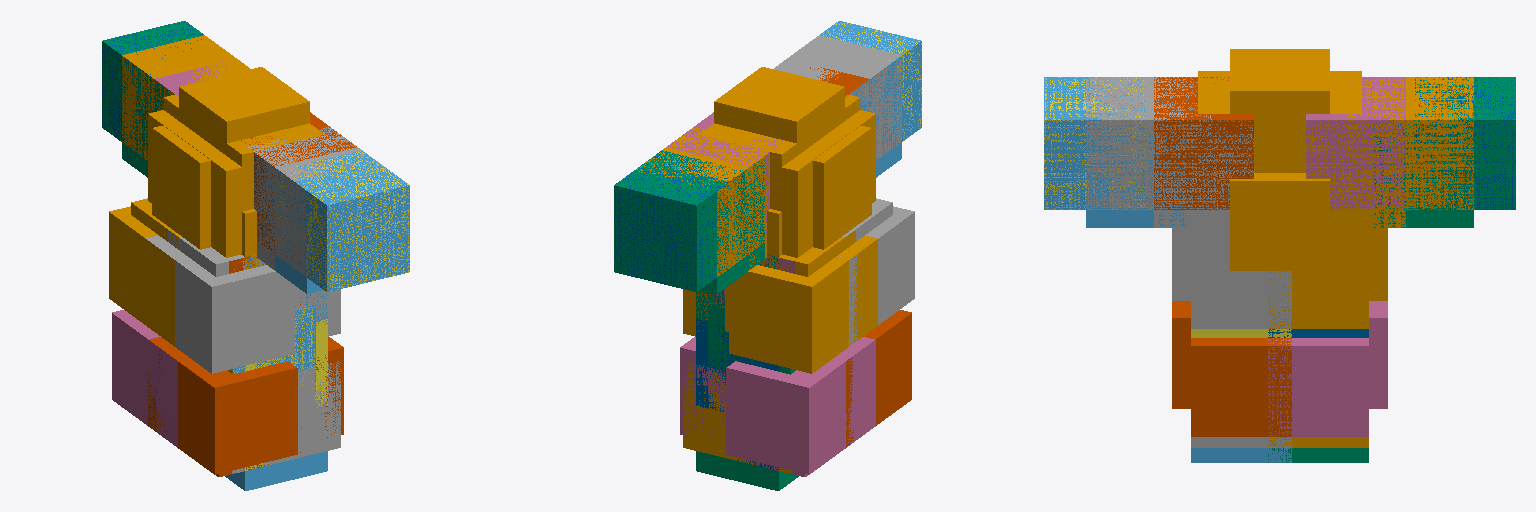
--- What the picture shows (computed from the rendered views, not written in the file) ---
The picture shows the robot from 3 angles, left to right: view 1: azimuth 30°, elevation 25°; view 2: azimuth 150°, elevation 25°; view 3: azimuth 270°, elevation 25°; orthographic projection.
Model typea with 25 links and 24 joints (18 revolute, 6 fixed), rooted at base_link, posed all joints at 0.
Links seen in each view (by area): view 1: torso_link, r_hip_lateral_link, r_ankle_swing_link, r_lower_arm_link, l_hip_lateral_link, r_upper_arm_link, l_ankle_swing_link, l_upper_arm_link, l_lower_arm_link, r_ankle_lateral_link, r_hand_link, r_foot_link (+5 smaller); view 2: torso_link, l_ankle_swing_link, l_hip_lateral_link, l_lower_arm_link, r_upper_arm_link, r_hip_lateral_link, l_upper_arm_link, r_lower_arm_link, r_ankle_swing_link, l_hand_link, l_ankle_lateral_link, l_foot_link (+5 smaller); view 3: torso_link, r_ankle_swing_link, r_upper_arm_link, l_upper_arm_link, l_ankle_swing_link, r_hip_lateral_link, l_lower_arm_link, r_lower_arm_link, l_hip_lateral_link, r_shoulder_swing_link, l_shoulder_swing_link, l_hand_link (+7 smaller).
Link boxes in pixels (x1,y1,x2,y2): torso_link: (148, 67, 324, 268); r_hip_lateral_link: (146, 230, 340, 373); r_ankle_swing_link: (148, 337, 343, 476); r_lower_arm_link: (259, 150, 409, 293); l_hip_lateral_link: (109, 198, 181, 346); r_upper_arm_link: (248, 127, 384, 276); l_ankle_swing_link: (112, 310, 177, 447); l_upper_arm_link: (122, 35, 249, 159); l_lower_arm_link: (102, 21, 203, 177); r_ankle_lateral_link: (232, 361, 340, 473); r_hand_link: (279, 151, 409, 291); r_foot_link: (225, 451, 327, 490); torso_link: (699, 67, 875, 269); l_ankle_swing_link: (680, 337, 875, 476); l_hip_lateral_link: (683, 230, 877, 373); l_lower_arm_link: (614, 150, 764, 293); r_upper_arm_link: (774, 35, 901, 160); r_hip_lateral_link: (839, 198, 914, 346); l_upper_arm_link: (637, 127, 775, 276); r_lower_arm_link: (820, 21, 921, 177); r_ankle_swing_link: (846, 310, 911, 447); l_hand_link: (614, 151, 744, 289); l_ankle_lateral_link: (683, 361, 791, 473); l_foot_link: (696, 451, 798, 490); torso_link: (1198, 49, 1361, 270); r_ankle_swing_link: (1172, 301, 1291, 436); r_upper_arm_link: (1086, 77, 1253, 227); l_upper_arm_link: (1306, 77, 1473, 227); l_ankle_swing_link: (1268, 301, 1387, 436); r_hip_lateral_link: (1172, 225, 1291, 328); l_lower_arm_link: (1374, 77, 1515, 227); r_lower_arm_link: (1044, 77, 1185, 227); l_hip_lateral_link: (1268, 225, 1387, 328); r_shoulder_swing_link: (1154, 77, 1253, 209); l_shoulder_swing_link: (1306, 77, 1405, 209); l_hand_link: (1415, 77, 1515, 209).
Bounding box of the posed robot: 0.1703 × 0.47 × 0.41 m (x, y, z).
Geometry: primitives only (box / cylinder / sphere), no mesh files.

The robot description file, URDF, robot "typea":
<?xml version="1.0" ?>
<!-- =================================================================================== -->
<!-- |    This document was autogenerated by xacro from typea.xacro                    | -->
<!-- |    EDITING THIS FILE BY HAND IS NOT RECOMMENDED                                 | -->
<!-- =================================================================================== -->
<robot name="typea">
  <!--gazebo>
    <plugin filename="libgazebo_ros_control.so" name="gazebo_ros_control">
      <robotNamespace>/typea</robotNamespace>
      <robotSimType>gazebo_ros_control/DefaultRobotHWSim</robotSimType>
    </plugin>
    <plugin filename="libgazebo_ros_imu.so" name="imu_plugin">
      <alwaysOn>true</alwaysOn>
      <bodyName>imu_link</bodyName>
      <topicName>/typea/imu</topicName>
      <serviceName>imu_service</serviceName>
      <gaussianNoise>0.0</gaussianNoise>
      <updateRate>20.0</updateRate>
      <visualize>true</visualize>
    </plugin>
  </gazebo-->
  <gazebo>
    <plugin filename="gz-sim-joint-state-publisher-system" 
          name="gz::sim::systems::JointStatePublisher">
       <topic>joint_states</topic> 
    </plugin>
  </gazebo>
  
  <gazebo reference="base_link">
    <self_collide>false</self_collide>
  </gazebo>
  <transmission name="r_shoulder_swing_joint_tran">
    <type>transmission_interface/SimpleTransmission</type>
    <joint name="r_shoulder_swing_joint">
      <hardwareInterface>hardwareInterface/Position</hardwareInterface>
    </joint>
    <actuator name="r_shoulder_swing_joint_motor">
      <hardwareInterface>hardwareInterface/Position</hardwareInterface>
      <mechanicalReduction>1</mechanicalReduction>
    </actuator>
  </transmission>
  <transmission name="l_shoulder_swing_joint_tran">
    <type>transmission_interface/SimpleTransmission</type>
    <joint name="l_shoulder_swing_joint">
      <hardwareInterface>hardwareInterface/Position</hardwareInterface>
    </joint>
    <actuator name="l_shoulder_swing_joint_motor">
      <hardwareInterface>hardwareInterface/Position</hardwareInterface>
      <mechanicalReduction>1</mechanicalReduction>
    </actuator>
  </transmission>
  <transmission name="r_shoulder_lateral_joint_tran">
    <type>transmission_interface/SimpleTransmission</type>
    <joint name="r_shoulder_lateral_joint">
      <hardwareInterface>hardwareInterface/Position</hardwareInterface>
    </joint>
    <actuator name="r_shoulder_lateral_joint_motor">
      <hardwareInterface>hardwareInterface/Position</hardwareInterface>
      <mechanicalReduction>1</mechanicalReduction>
    </actuator>
  </transmission>
  <transmission name="l_shoulder_lateral_joint_tran">
    <type>transmission_interface/SimpleTransmission</type>
    <joint name="l_shoulder_lateral_joint">
      <hardwareInterface>hardwareInterface/Position</hardwareInterface>
    </joint>
    <actuator name="l_shoulder_lateral_joint_motor">
      <hardwareInterface>hardwareInterface/Position</hardwareInterface>
      <mechanicalReduction>1</mechanicalReduction>
    </actuator>
  </transmission>
  <transmission name="r_elbow_joint_tran">
    <type>transmission_interface/SimpleTransmission</type>
    <joint name="r_elbow_joint">
      <hardwareInterface>hardwareInterface/Position</hardwareInterface>
    </joint>
    <actuator name="r_elbow_joint_motor">
      <hardwareInterface>Position</hardwareInterface>
      <mechanicalReduction>1</mechanicalReduction>
    </actuator>
  </transmission>
  <transmission name="l_elbow_joint_tran">
    <type>transmission_interface/SimpleTransmission</type>
    <joint name="l_elbow_joint">
      <hardwareInterface>hardwareInterface/Position</hardwareInterface>
    </joint>
    <actuator name="l_elbow_joint_motor">
      <hardwareInterface>Position</hardwareInterface>
      <mechanicalReduction>1</mechanicalReduction>
    </actuator>
  </transmission>
  <transmission name="r_hip_twist_joint_tran">
    <type>transmission_interface/SimpleTransmission</type>
    <joint name="r_hip_twist_joint">
      <hardwareInterface>hardwareInterface/Position</hardwareInterface>
    </joint>
    <actuator name="r_hip_twist_joint_motor">
      <hardwareInterface>hardwareInterface/Position</hardwareInterface>
      <mechanicalReduction>1</mechanicalReduction>
    </actuator>
  </transmission>
  <transmission name="l_hip_twist_joint_tran">
    <type>transmission_interface/SimpleTransmission</type>
    <joint name="l_hip_twist_joint">
      <hardwareInterface>hardwareInterface/Position</hardwareInterface>
    </joint>
    <actuator name="l_hip_twist_joint_motor">
      <hardwareInterface>hardwareInterface/Position</hardwareInterface>
      <mechanicalReduction>1</mechanicalReduction>
    </actuator>
  </transmission>
  <transmission name="r_hip_lateral_joint_tran">
    <type>transmission_interface/SimpleTransmission</type>
    <joint name="r_hip_lateral_joint">
      <hardwareInterface>hardwareInterface/Position</hardwareInterface>
    </joint>
    <actuator name="r_hip_lateral_joint_motor">
      <hardwareInterface>hardwareInterface/Position</hardwareInterface>
      <mechanicalReduction>1</mechanicalReduction>
    </actuator>
  </transmission>
  <transmission name="l_hip_lateral_joint_tran">
    <type>transmission_interface/SimpleTransmission</type>
    <joint name="l_hip_lateral_joint">
      <hardwareInterface>hardwareInterface/Position</hardwareInterface>
    </joint>
    <actuator name="l_hip_lateral_joint_motor">
      <hardwareInterface>hardwareInterface/Position</hardwareInterface>
      <mechanicalReduction>1</mechanicalReduction>
    </actuator>
  </transmission>
  <transmission name="r_hip_swing_joint_tran">
    <type>transmission_interface/SimpleTransmission</type>
    <joint name="r_hip_swing_joint">
      <hardwareInterface>hardwareInterface/Position</hardwareInterface>
    </joint>
    <actuator name="r_hip_swing_joint_motor">
      <hardwareInterface>hardwareInterface/Position</hardwareInterface>
      <mechanicalReduction>1</mechanicalReduction>
    </actuator>
  </transmission>
  <transmission name="l_hip_swing_joint_tran">
    <type>transmission_interface/SimpleTransmission</type>
    <joint name="l_hip_swing_joint">
      <hardwareInterface>hardwareInterface/Position</hardwareInterface>
    </joint>
    <actuator name="l_hip_swing_joint_motor">
      <hardwareInterface>hardwareInterface/Position</hardwareInterface>
      <mechanicalReduction>1</mechanicalReduction>
    </actuator>
  </transmission>
  <transmission name="r_knee_joint_tran">
    <type>transmission_interface/SimpleTransmission</type>
    <joint name="r_knee_joint">
      <hardwareInterface>hardwareInterface/Position</hardwareInterface>
    </joint>
    <actuator name="r_knee_joint_motor">
      <hardwareInterface>hardwareInterface/Position</hardwareInterface>
      <mechanicalReduction>1</mechanicalReduction>
    </actuator>
  </transmission>
  <transmission name="l_knee_joint_tran">
    <type>transmission_interface/SimpleTransmission</type>
    <joint name="l_knee_joint">
      <hardwareInterface>hardwareInterface/Position</hardwareInterface>
    </joint>
    <actuator name="l_knee_joint_motor">
      <hardwareInterface>hardwareInterface/Position</hardwareInterface>
      <mechanicalReduction>1</mechanicalReduction>
    </actuator>
  </transmission>
  <transmission name="r_ankle_swing_joint_tran">
    <type>transmission_interface/SimpleTransmission</type>
    <joint name="r_ankle_swing_joint">
      <hardwareInterface>hardwareInterface/Position</hardwareInterface>
    </joint>
    <actuator name="r_ankle_swing_joint_motor">
      <hardwareInterface>hardwareInterface/Position</hardwareInterface>
      <mechanicalReduction>1</mechanicalReduction>
    </actuator>
  </transmission>
  <transmission name="l_ankle_swing_joint_tran">
    <type>transmission_interface/SimpleTransmission</type>
    <joint name="l_ankle_swing_joint">
      <hardwareInterface>hardwareInterface/Position</hardwareInterface>
    </joint>
    <actuator name="l_ankle_swing_joint_motor">
      <hardwareInterface>hardwareInterface/Position</hardwareInterface>
      <mechanicalReduction>1</mechanicalReduction>
    </actuator>
  </transmission>
  <transmission name="r_ankle_lateral_joint_tran">
    <type>transmission_interface/SimpleTransmission</type>
    <joint name="r_ankle_lateral_joint">
      <hardwareInterface>hardwareInterface/Position</hardwareInterface>
    </joint>
    <actuator name="r_ankle_lateral_joint_motor">
      <hardwareInterface>hardwareInterface/Position</hardwareInterface>
      <mechanicalReduction>1</mechanicalReduction>
    </actuator>
  </transmission>
  <transmission name="l_ankle_lateral_joint_tran">
    <type>transmission_interface/SimpleTransmission</type>
    <joint name="l_ankle_lateral_joint">
      <hardwareInterface>hardwareInterface/Position</hardwareInterface>
    </joint>
    <actuator name="l_ankle_lateral_joint_motor">
      <hardwareInterface>hardwareInterface/Position</hardwareInterface>
      <mechanicalReduction>1</mechanicalReduction>
    </actuator>
  </transmission>
  <!-- Torso -->
  <link name="torso_link">
    <visual>
      <geometry>
        <!-- <mesh filename="file://[local-path]/ros2_ws/src/bioloid_description/assets/cad/BPF-CHEST-F_FCD-Conv_BDR-Col.dae" scale="0.001 0.001 0.001"/> -->
        <box size="0.1 0.1 0.1" />
      </geometry>
      <origin rpy="1.5707963267948966 0 1.5707963267948966"/>
    </visual>
    <visual>
      <geometry>
        <!-- <mesh filename="file://[local-path]/ros2_ws/src/bioloid_description/assets/cad/BPF-CHEST-B_FCD-Conv_BDR-Col.dae" scale="0.001 0.001 0.001"/> -->
        <box size="0.1 0.1 0.1" />
      </geometry>
      <origin rpy="1.5707963267948966 0 1.5707963267948966"/>
    </visual>
    <visual>
      <geometry>
        <!-- <mesh filename="file://[local-path]/ros2_ws/src/bioloid_description/assets/cad/CM-5_FCD-Conv_BDR-Col.dae" scale="0.001 0.001 0.001"/> -->
        <box size="0.1 0.1 0.1" />
      </geometry>
      <origin rpy="0 3.141592653589793 1.5707963267948966" xyz="-0.032 0 -0.015"/>
    </visual>
    <!-- Sensor 100 -->
    <visual>
      <geometry>
        <!-- <mesh filename="file://[local-path]/ros2_ws/src/bioloid_description/assets/cad/AX-S1_FCD-Conv_BDR-Col.dae" scale="0.001 0.001 0.001"/> -->
        <box size="0.1 0.1 0.1" />
      </geometry>
      <origin rpy="-1.5707963267948966 0 -1.5707963267948966" xyz="0 0 0.025"/>
    </visual>
    <!-- Motor 1 -->
    <visual>
      <geometry>
        <!-- <mesh filename="file://[local-path]/ros2_ws/src/bioloid_description/assets/cad/AX-12_FCD-Conv_BDR-Col.dae" scale="0.001 0.001 0.001"/> -->
        <box size="0.1 0.1 0.1" />
      </geometry>
      <origin rpy="1.5707963267948966 0 0" xyz="0 -0.032 0"/>
    </visual>
    <visual>
      <geometry>
        <!-- <mesh filename="file://[local-path]/ros2_ws/src/bioloid_description/assets/cad/FP04-F3_FCD-Conv_BDR-Col.dae" scale="0.001 0.001 0.001"/> -->
        <box size="0.1 0.1 0.1" />
      </geometry>
      <origin rpy="3.141592653589793 -1.5707963267948966 1.5707963267948966" xyz="-0.019 -0.032 -0.0145"/>
    </visual>
    <!-- Motor 2 -->
    <visual>
      <geometry>
        <!-- <mesh filename="file://[local-path]/ros2_ws/src/bioloid_description/assets/cad/AX-12_FCD-Conv_BDR-Col.dae" scale="0.001 0.001 0.001"/> -->
        <box size="0.1 0.1 0.1" />
      </geometry>
      <origin rpy="1.5707963267948966 0 3.141592653589793" xyz="0 0.032 0"/>
    </visual>
    <visual>
      <geometry>
        <!-- <mesh filename="file://[local-path]/ros2_ws/src/bioloid_description/assets/cad/FP04-F3_FCD-Conv_BDR-Col.dae" scale="0.001 0.001 0.001"/> -->
        <box size="0.1 0.1 0.1" />
      </geometry>
      <origin rpy="3.141592653589793 -1.5707963267948966 1.5707963267948966" xyz="-0.019 0.032 -0.0145"/>
    </visual>
    <visual>
      <geometry>
        <!-- <mesh filename="file://[local-path]/ros2_ws/src/bioloid_description/assets/cad/FP04-F3_FCD-Conv_BDR-Col.dae" scale="0.001 0.001 0.001"/> -->
        <box size="0.1 0.1 0.1" />
      </geometry>
      <origin rpy="0 0 1.5707963267948966" xyz="0.0175 0 -0.0655"/>
    </visual>
    <visual>
      <geometry>
        <!-- <mesh filename="file://[local-path]/ros2_ws/src/bioloid_description/assets/cad/FP04-F3_FCD-Conv_BDR-Col.dae" scale="0.001 0.001 0.001"/> -->
        <box size="0.1 0.1 0.1" />
      </geometry>
      <origin rpy="0 0 -1.5707963267948966" xyz="-0.0175 0 -0.0655"/>
    </visual>
    <!-- Motor 7 -->
    <visual>
      <geometry>
        <!-- <mesh filename="file://[local-path]/ros2_ws/src/bioloid_description/assets/cad/AX-12_FCD-Conv_BDR-Col.dae" scale="0.001 0.001 0.001"/> -->
        <box size="0.1 0.1 0.1" />
      </geometry>
      <origin rpy="0 3.141592653589793 3.141592653589793" xyz="0 -0.0385 -0.0655"/>
    </visual>
    <!-- Motor 8 -->
    <visual>
      <geometry>
        <!-- <mesh filename="file://[local-path]/ros2_ws/src/bioloid_description/assets/cad/AX-12_FCD-Conv_BDR-Col.dae" scale="0.001 0.001 0.001"/> -->
        <box size="0.1 0.1 0.1" />
      </geometry>
      <origin rpy="0 3.141592653589793 0" xyz="0 0.0385 -0.0655"/>
    </visual>
    <collision name="head_collision">
      <origin xyz="-0.0122 0 0.035"/>
      <geometry>
        <box size="0.054 0.033 0.044"/>
      </geometry>
    </collision>
    <collision name="torso_collision_top">
      <origin xyz="-0.019 0 -0.015"/>
      <geometry>
        <box size="0.0905 0.103 0.0635"/>
      </geometry>
    </collision>
    <collision name="torso_collision_bottom">
      <origin xyz="-0.00625 0 -0.0648"/>
      <geometry>
        <box size="0.065 0.099 0.043"/>
      </geometry>
    </collision>
    <inertial>
      <mass value="3.4770266466"/>
      <origin xyz="0.0162019036 0.0049844800 0.0038595353"/>
      <inertia ixx="0.9787053684" ixy="0.0543464614" ixz="-0.0262073548" iyy="0.9730952674" iyz="0.0198675713" izz="0.9352573858"/>
    </inertial>
    <!--
        <inertial>
            <origin xyz="-0.003053 -0.038651 -0.019268" />
            <mass value="0.97559947"/>
            <inertia ixx="3.1081800"  ixy="-0.25460189"  ixz="2.0318174" iyy="6.3787776" iyz="0.16417863" izz="5.3316425" />
        </inertial>
        -->
  </link>
  <!-- Right foot -->
  <link name="r_foot_link">
    <visual>
      <geometry>
        <!-- <mesh filename="file://[local-path]/ros2_ws/src/bioloid_description/assets/cad/FP04-F12_FCD-Conv_BDR-Col.dae" scale="0.001 0.001 0.001"/> -->
        <box size="0.1 0.1 0.1" />
      </geometry>
      <origin rpy="0 1.5707963267948966 -1.5707963267948966" xyz="0.0235 0 0"/>
    </visual>
    <collision name="r_foot_collision">
      <origin xyz="0.0277 0 0"/>
      <geometry>
        <box size="0.009 0.061 0.101"/>
      </geometry>
    </collision>
    <inertial>
      <mass value="0.1867801099"/>
      <origin xyz="-0.0055676472 0.0034398816 0.0028465215"/>
      <inertia ixx="0.0123442309" ixy="-0.0013373380" ixz="-0.0014042040" iyy="0.0351609327" iyz="0.0011525105" izz="0.0411013075"/>
    </inertial>
    <!--
        <inertial>
            <origin xyz="-0.025995 -0.009506 -0.000503" />
            <mass value="0.0794462"/>
            <inertia ixx="0.12079175"  ixy="-0.00079781067"  ixz="-0.00039322246" iyx="-0.00079781067" iyy="0.10885465" iyz="0.0070770117" izx="-0.00039322246" izy="0.0070770117" izz="0.041871103" />
        </inertial>
        -->
  </link>
  <!-- Left foot -->
  <link name="l_foot_link">
    <visual>
      <geometry>
        <!-- <mesh filename="file://[local-path]/ros2_ws/src/bioloid_description/assets/cad/FP04-F12_FCD-Conv_BDR-Col.dae" scale="0.001 0.001 0.001"/> -->
        <box size="0.1 0.1 0.1" />
      </geometry>
      <origin rpy="3.141592653589793 1.5707963267948966 -1.5707963267948966" xyz="-0.0235 0 0"/>
    </visual>
    <collision name="l_foot_collision">
      <origin xyz="-0.0277 0 0"/>
      <geometry>
        <box size="0.009 0.061 0.101"/>
      </geometry>
    </collision>
    <inertial>
      <mass value="0.1867801099"/>
      <origin xyz="-0.0055676472 -0.0035014440 0.0028465215"/>
      <inertia ixx="0.0123437897" ixy="0.0013329200" ixz="-0.0014042040" iyy="0.0351609292" iyz="-0.0011492661" izz="0.0411008628"/>
    </inertial>
    <!--
        <inertial>
            <origin xyz="-0.025995 -0.009506 -0.000503" />
            <mass value="0.0794462"/>
            <inertia ixx="0.12079175"  ixy="-0.00079781067"  ixz="-0.00039322246" iyx="-0.00079781067" iyy="0.10885465" iyz="0.0070770117" izx="-0.00039322246" izy="0.0070770117" izz="0.041871103" />
        </inertial>
        -->
  </link>
  <!-- IMU -->
  <joint name="imu_to_base_joint" type="fixed">
    <axis xyz="1 0 0"/>
    <origin rpy="0 0 0" xyz="0 0 0.05"/>
    <parent link="base_link"/>
    <child link="imu_link"/>
  </joint>
  <link name="imu_link">
    <visual>
      <origin rpy="0 0 0" xyz="0 0 0"/>
      <geometry>
        <box size="0.04 0.02 0.005"/>
      </geometry>
      <material name="green">
        <color rgba="0.0 1.0 0.0 1.0"/>
      </material>
    </visual>
    <collision>
      <origin rpy="0 0 0" xyz="0 0 0"/>
      <geometry>
        <box size=".01 .01 .01"/>
      </geometry>
    </collision>
    <inertial>
      <mass value="0.001"/>
      <origin rpy="0 0 0" xyz="0 0 0"/>
      <inertia ixx="0.0001" ixy="0" ixz="0" iyy="0.000001" iyz="0" izz="0.0001"/>
    </inertial>
  </link>
  <!-- Base -->
  <joint name="base_to_torso_joint" type="fixed">
    <parent link="base_link"/>
    <origin rpy="0 0 0" xyz="0 0 0"/>
    <child link="torso_link"/>
  </joint>
  <link name="base_link">
    <collision>
      <geometry>
        <box size="0.5 0.5 0.2"/>
      </geometry>
    </collision>
    <inertial>
      <mass value="5.0"/>
      <inertia ixx="0.1" iyy="0.1" izz="0.1" ixy="0.0" ixz="0.0" iyz="0.0"/>
    </inertial>
    </link>
  <joint name="r_shoulder_swing_joint" type="revolute">
    <parent link="torso_link"/>
    <origin rpy="1.5707963267948966 1.5707963267948966 0" xyz="0 -0.032 0"/>
    <axis xyz="0 0 1"/>
    <child link="r_shoulder_swing_link"/>
    <limit effort="2.8" lower="-1" upper="1.5707963267948966" velocity="1.0"/>
    <dynamics damping="1.0" friction="0.1"/>
  </joint>
  <link name="r_shoulder_swing_link">
    <visual>
      <geometry>
        <!-- <mesh filename="file://[local-path]/ros2_ws/src/bioloid_description/assets/cad/FP04-F1_FCD-Conv_BDR-Col.dae" scale="0.001 0.001 0.001"/> -->
        <box size="0.1 0.1 0.1" />
      </geometry>
      <origin rpy="0 3.141592653589793 3.141592653589793" xyz="0 0.014 0.044"/>
    </visual>
    <collision name="r_shoulder_collision">
      <origin xyz="0 0.006 0.0375"/>
      <geometry>
        <box size="0.052 0.039 0.036"/>
      </geometry>
    </collision>
    <inertial>
      <mass value="0.0595945816"/>
      <origin xyz="-0.0109359544 0.0123630374 -0.0000000007"/>
      <inertia ixx="0.0069903407" ixy="-0.0020812370" ixz="0.0000000001" iyy="0.0067210939" iyz="-0.0000000002" izz="0.0054521983"/>
    </inertial>
    <!--
        <inertial>
            <origin xyz="-0.013522619 0.010264050 0.0013935747"/>
            <mass value="0.025913024"/>
            <inertia  ixx="0.0097758165" ixy="0.0016911839"  ixz="-0.0016911839"  iyy="0.010511104"  iyz="0.00033406955"  izz="0.005476798"/>
        </inertial>
        -->
  </link>
  <joint name="l_shoulder_swing_joint" type="revolute">
    <parent link="torso_link"/>
    <origin rpy="-1.5707963267948966 -1.5707963267948966 0" xyz="0 0.032 0"/>
    <axis xyz="0 0 1"/>
    <child link="l_shoulder_swing_link"/>
    <limit effort="2.8" lower="-1" upper="1.5707963267948966" velocity="1.0"/>
  </joint>
  <link name="l_shoulder_swing_link">
    <visual>
      <geometry>
        <!-- <mesh filename="file://[local-path]/ros2_ws/src/bioloid_description/assets/cad/FP04-F1_FCD-Conv_BDR-Col.dae" scale="0.001 0.001 0.001"/> -->
        <box size="0.1 0.1 0.1" />
      </geometry>
      <origin rpy="0 3.141592653589793 3.141592653589793" xyz="0 0.014 0.044"/>
    </visual>
    <collision name="l_shoulder_collision">
      <origin xyz="0 0.006 0.0375"/>
      <geometry>
        <box size="0.052 0.039 0.036"/>
      </geometry>
    </collision>
    <inertial>
      <mass value="0.0595945816"/>
      <origin xyz="-0.0109359544 -0.0123630374 0.0000000007"/>
      <inertia ixx="0.0069903407" ixy="0.0020812370" ixz="-0.0000000001" iyy="0.0067210939" iyz="-0.0000000002" izz="0.0054521983"/>
    </inertial>
    <!--
        <inertial>
            <origin xyz="-0.013522619 0.010264050 0.0013935747"/>
            <mass value="0.025913024"/>
            <inertia  ixx="0.0097758165" ixy="0.0016911839"  ixz="-0.0016911839"  iyy="0.010511104"  iyz="0.00033406955"  izz="0.005476798"/>
        </inertial>
        -->
  </link>
  <joint name="r_shoulder_lateral_joint" type="revolute">
    <parent link="r_shoulder_swing_link"/>
    <origin rpy="0 -1.5707963267948966 0" xyz="0 0.014 0.044"/>
    <axis xyz="0 0 1"/>
    <child link="r_upper_arm_link"/>
    <limit effort="2.8" lower="-1.5" upper="1.5" velocity="1.0"/>
  </joint>
  <link name="r_upper_arm_link">
    <visual>
      <geometry>
        <!-- <mesh filename="file://[local-path]/ros2_ws/src/bioloid_description/assets/cad/AX-12_FCD-Conv_BDR-Col.dae" scale="0.001 0.001 0.001"/> -->
        <box size="0.1 0.1 0.1" />
      </geometry>
      <origin rpy="0 0 1.5707963267948966" xyz="0 0 0"/>
    </visual>
    <visual>
      <geometry>
        <!-- <mesh filename="file://[local-path]/ros2_ws/src/bioloid_description/assets/cad/BPF-BU_FCD-Conv_BDR-Col.dae" scale="0.001 0.001 0.001"/> -->
        <box size="0.1 0.1 0.1" />
      </geometry>
      <origin rpy="-1.5707963267948966 0 1.5707963267948966" xyz="0 0 -0.0185"/>
    </visual>
    <visual>
      <geometry>
        <!-- <mesh filename="file://[local-path]/ros2_ws/src/bioloid_description/assets/cad/BPF-WA_FCD-Conv_BDR-Col.dae" scale="0.001 0.001 0.001"/> -->
        <box size="0.1 0.1 0.1" />
      </geometry>
      <origin rpy="-1.5707963267948966 0 1.5707963267948966" xyz="0 0 -0.019"/>
    </visual>
    <visual>
      <geometry>
        <!-- <mesh filename="file://[local-path]/ros2_ws/src/bioloid_description/assets/cad/FP04-F3_FCD-Conv_BDR-Col.dae" scale="0.001 0.001 0.001"/> -->
        <box size="0.1 0.1 0.1" />
      </geometry>
      <origin rpy="0 0 1.5707963267948966" xyz="0.0415 0 0"/>
    </visual>
    <visual>
      <geometry>
        <!-- <mesh filename="file://[local-path]/ros2_ws/src/bioloid_description/assets/cad/FP04-F2_FCD-Conv_BDR-Col.dae" scale="0.001 0.001 0.001"/> -->
        <box size="0.1 0.1 0.1" />
      </geometry>
      <origin rpy="-1.5707963267948966 1.5707963267948966 1.5707963267948966" xyz="0.0675 0 0"/>
    </visual>
    <collision name="r_upper arm_collision_proximal">
      <origin xyz="0.0148 0 0"/>
      <geometry>
        <box size="0.054 0.033 0.044"/>
      </geometry>
    </collision>
    <collision name="r_upper arm_collision_distal">
      <origin xyz="0.0555 0 0"/>
      <geometry>
        <box size="0.047 0.033 0.052"/>
      </geometry>
    </collision>
    <inertial>
      <mass value="0.3822870734"/>
      <origin xyz="-0.0000002032 -0.0068291604 -0.0006710552"/>
      <inertia ixx="0.0274690892" ixy="0.0000004066" ixz="-0.0000000859" iyy="0.0077817002" iyz="0.0007139012" izz="0.0226034759"/>
    </inertial>
    <!--
        <inertial>
      	<origin xyz="-0.036239 0.000734 -0.000660" />
      	<mass value="0.16837715"/>
      	<inertia ixx="0.12202839"  ixy="-0.0020812626"  ixz="-0.00088143449" iyx="-0.0020812626" iyy="0.038088441" iyz="0.0018251448" izx="-0.00088143449" izy="0.0018251448" izz="0.11340830" />
        </inertial>
        -->
  </link>
  <joint name="l_shoulder_lateral_joint" type="revolute">
    <parent link="l_shoulder_swing_link"/>
    <origin rpy="0 -1.5707963267948966 0" xyz="0 0.014 0.044"/>
    <axis xyz="0 0 1"/>
    <child link="l_upper_arm_link"/>
    <limit effort="2.8" lower="-1.5" upper="1.5" velocity="1.0"/>
  </joint>
  <link name="l_upper_arm_link">
    <visual>
      <geometry>
        <!-- <mesh filename="file://[local-path]/ros2_ws/src/bioloid_description/assets/cad/AX-12_FCD-Conv_BDR-Col.dae" scale="0.001 0.001 0.001"/> -->
        <box size="0.1 0.1 0.1" />
      </geometry>
      <origin rpy="3.141592653589793 0 -1.5707963267948966" xyz="0 0 0"/>
    </visual>
    <visual>
      <geometry>
        <!-- <mesh filename="file://[local-path]/ros2_ws/src/bioloid_description/assets/cad/BPF-BU_FCD-Conv_BDR-Col.dae" scale="0.001 0.001 0.001"/> -->
        <box size="0.1 0.1 0.1" />
      </geometry>
      <origin rpy="1.5707963267948966 0 1.5707963267948966" xyz="0 0 0.0185"/>
    </visual>
    <visual>
      <geometry>
        <!-- <mesh filename="file://[local-path]/ros2_ws/src/bioloid_description/assets/cad/BPF-WA_FCD-Conv_BDR-Col.dae" scale="0.001 0.001 0.001"/> -->
        <box size="0.1 0.1 0.1" />
      </geometry>
      <origin rpy="1.5707963267948966 0 1.5707963267948966" xyz="0 0 0.019"/>
    </visual>
    <visual>
      <geometry>
        <!-- <mesh filename="file://[local-path]/ros2_ws/src/bioloid_description/assets/cad/FP04-F3_FCD-Conv_BDR-Col.dae" scale="0.001 0.001 0.001"/> -->
        <box size="0.1 0.1 0.1" />
      </geometry>
      <origin rpy="3.141592653589793 0 -1.5707963267948966" xyz="0.0415 0 0"/>
    </visual>
    <visual>
      <geometry>
        <!-- <mesh filename="file://[local-path]/ros2_ws/src/bioloid_description/assets/cad/FP04-F2_FCD-Conv_BDR-Col.dae" scale="0.001 0.001 0.001"/> -->
        <box size="0.1 0.1 0.1" />
      </geometry>
      <origin rpy="1.5707963267948966 1.5707963267948966 -1.5707963267948966" xyz="0.0675 0 0"/>
    </visual>
    <collision name="l_upper arm_collision_proximal">
      <origin xyz="0.0148 0 0"/>
      <geometry>
        <box size="0.054 0.033 0.044"/>
      </geometry>
    </collision>
    <collision name="l_upper arm_collision_distal">
      <origin xyz="0.0555 0 0"/>
      <geometry>
        <box size="0.047 0.033 0.052"/>
      </geometry>
    </collision>
    <inertial>
      <mass value="0.3822870734"/>
      <origin xyz="0.0000002032 0.0068291604 -0.0006710552"/>
      <inertia ixx="0.0274690892" ixy="0.0000004066" ixz="0.0000000859" iyy="0.0077817002" iyz="-0.0007139012" izz="0.0226034759"/>
    </inertial>
    <!--
        <inertial>
      	<origin xyz="-0.036239 0.000734 -0.000660" />
      	<mass value="0.16837715"/>
      	<inertia ixx="0.12202839"  ixy="-0.0020812626"  ixz="-0.00088143449" iyx="-0.0020812626" iyy="0.038088441" iyz="0.0018251448" izx="-0.00088143449" izy="0.0018251448" izz="0.11340830" />
        </inertial>
        -->
  </link>
  <joint name="r_elbow_joint" type="revolute">
    <parent link="r_upper_arm_link"/>
    <origin rpy="0 0 0" xyz="0.0675 0 0"/>
    <axis xyz="0 0 1"/>
    <child link="r_lower_arm_link"/>
    <limit effort="2.8" lower="-1.77" upper="1.77" velocity="1.0"/>
  </joint>
  <link name="r_lower_arm_link">
    <!-- Motor 5 -->
    <visual>
      <geometry>
        <!-- <mesh filename="file://[local-path]/ros2_ws/src/bioloid_description/assets/cad/AX-12_FCD-Conv_BDR-Col.dae" scale="0.001 0.001 0.001"/> -->
        <box size="0.1 0.1 0.1" />
      </geometry>
      <origin rpy="0 0 1.5707963267948966" xyz="0 0 0"/>
    </visual>
    <visual>
      <geometry>
        <!-- <mesh filename="file://[local-path]/ros2_ws/src/bioloid_description/assets/cad/BPF-BU_FCD-Conv_BDR-Col.dae" scale="0.001 0.001 0.001"/> -->
        <box size="0.1 0.1 0.1" />
      </geometry>
      <origin rpy="-1.5707963267948966 0 1.5707963267948966" xyz="0 0 -0.0185"/>
    </visual>
    <visual>
      <geometry>
        <!-- <mesh filename="file://[local-path]/ros2_ws/src/bioloid_description/assets/cad/BPF-WA_FCD-Conv_BDR-Col.dae" scale="0.001 0.001 0.001"/> -->
        <box size="0.1 0.1 0.1" />
      </geometry>
      <origin rpy="-1.5707963267948966 0 1.5707963267948966" xyz="0 0 -0.019"/>
    </visual>
    <visual>
      <geometry>
        <!-- <mesh filename="file://[local-path]/ros2_ws/src/bioloid_description/assets/cad/FP04-F3_FCD-Conv_BDR-Col.dae" scale="0.001 0.001 0.001"/> -->
        <box size="0.1 0.1 0.1" />
      </geometry>
      <origin rpy="0 0 1.5707963267948966" xyz="0.0415 0 0"/>
    </visual>
    <collision name="r_lower_arm_collision">
      <origin xyz="0.017 0 0"/>
      <geometry>
        <box size="0.058 0.033 0.044"/>
      </geometry>
    </collision>
    <inertial>
      <mass value="0.3833833954"/>
      <origin xyz="-0.0009848283 -0.0081892817 -0.0005847510"/>
      <inertia ixx="0.0336009689" ixy="0.0038318932" ixz="0.0000784112" iyy="0.0055167096" iyz="0.0008760966" izz="0.0319185839"/>
    </inertial>
    <!--
        <inertial>
            <origin xyz="0.000000 0.000000 0.000000" />
            <mass value="0.059288504"/>
            <inertia ixx="0.086855267"  ixy="0.0053020311"  ixz="0.00043636051" iyx="0.0053020311" iyy="0.021192085" iyz="-0.0064855932" izx="0.00043636051" izy="-0.0064855932" izz="0.086845450" />
        </inertial>
        -->
  </link>
  <joint name="l_elbow_joint" type="revolute">
    <parent link="l_upper_arm_link"/>
    <origin rpy="0 0 0" xyz="0.0675 0 0"/>
    <axis xyz="0 0 1"/>
    <child link="l_lower_arm_link"/>
    <limit effort="2.8" lower="-1.77" upper="1.77" velocity="1.0"/>
  </joint>
  <link name="l_lower_arm_link">
    <!-- Motor 6 -->
    <visual>
      <geometry>
        <!-- <mesh filename="file://[local-path]/ros2_ws/src/bioloid_description/assets/cad/AX-12_FCD-Conv_BDR-Col.dae" scale="0.001 0.001 0.001"/> -->
        <box size="0.1 0.1 0.1" />
      </geometry>
      <origin rpy="3.141592653589793 0 -1.5707963267948966" xyz="0 0 0"/>
    </visual>
    <visual>
      <geometry>
        <!-- <mesh filename="file://[local-path]/ros2_ws/src/bioloid_description/assets/cad/BPF-BU_FCD-Conv_BDR-Col.dae" scale="0.001 0.001 0.001"/> -->
        <box size="0.1 0.1 0.1" />
      </geometry>
      <origin rpy="1.5707963267948966 0 1.5707963267948966" xyz="0 0 0.0185"/>
    </visual>
    <visual>
      <geometry>
        <!-- <mesh filename="file://[local-path]/ros2_ws/src/bioloid_description/assets/cad/BPF-WA_FCD-Conv_BDR-Col.dae" scale="0.001 0.001 0.001"/> -->
        <box size="0.1 0.1 0.1" />
      </geometry>
      <origin rpy="1.5707963267948966 0 1.5707963267948966" xyz="0 0 0.019"/>
    </visual>
    <visual>
      <geometry>
        <!-- <mesh filename="file://[local-path]/ros2_ws/src/bioloid_description/assets/cad/FP04-F3_FCD-Conv_BDR-Col.dae" scale="0.001 0.001 0.001"/> -->
        <box size="0.1 0.1 0.1" />
      </geometry>
      <origin rpy="3.141592653589793 0 -1.5707963267948966" xyz="0.0415 0 0"/>
    </visual>
    <collision name="l_lower_arm_collision">
      <origin xyz="0.017 0 0"/>
      <geometry>
        <box size="0.058 0.033 0.044"/>
      </geometry>
    </collision>
    <inertial>
      <mass value="0.3822870734"/>
      <origin xyz="0.0000002032 0.0068291604 -0.0006710552"/>
      <inertia ixx="0.0274690892" ixy="0.0000004066" ixz="0.0000000859" iyy="0.0077817002" iyz="-0.0007139012" izz="0.0226034759"/>
    </inertial>
    <!--
        <inertial>
            <origin xyz="0.000000 0.000000 0.000000" />
            <mass value="0.059288504"/>
            <inertia ixx="0.086855267"  ixy="0.0053020311"  ixz="0.00043636051" iyx="0.0053020311" iyy="0.021192085" iyz="-0.0064855932" izx="0.00043636051" izy="-0.0064855932" izz="0.086845450" />
        </inertial>
        -->
  </link>
  <joint name="r_hand_joint" type="fixed">
    <parent link="r_lower_arm_link"/>
    <origin rpy="0 0 0" xyz="0 0 0"/>
    <child link="r_hand_link"/>
  </joint>
  <link name="r_hand_link">
    <visual>
      <geometry>
        <!-- <mesh filename="file://[local-path]/ros2_ws/src/bioloid_description/assets/cad/FP04-F11_FCD-Conv_BDR-Col.dae" scale="0.001 0.001 0.001"/> -->
        <box size="0.1 0.1 0.1" />
      </geometry>
      <origin rpy="3.141592653589793 -1.5707963267948966 0" xyz="0.0415 0 0"/>
    </visual>
    <collision name="r_palm_collision">
      <origin xyz="0.039 0 0"/>
      <geometry>
        <box size="0.0131 0.0265 0.044"/>
      </geometry>
    </collision>
    <collision name="r_fingers_collision">
      <origin xyz="0.0701 -0.0077 0"/>
      <geometry>
        <box size="0.0575 0.0175 0.035"/>
      </geometry>
    </collision>
    <inertial>
      <mass value="0.0303003163"/>
      <origin xyz="-0.0070414665 -0.0217364083 -0.0000000095"/>
      <inertia ixx="0.0054448143" ixy="0.0011266691" ixz="0.0000000017" iyy="0.0013220979" iyz="-0.0000000025" izz="0.0053756998"/>
    </inertial>
    <!--
        <inertial>
            <origin xyz="0.045838 -0.013490 0.006666"/>
            <mass value="0.010"/>
            <inertia ixx="0.12202839"  ixy="-0.0020812626"  ixz="-0.00088143449" iyx="-0.0020812626" iyy="0.038088441" iyz="0.0018251448" izx="-0.00088143449" izy="0.0018251448" izz="0.11340830" />
        </inertial>
        -->
  </link>
  <joint name="l_hand_joint" type="fixed">
    <parent link="l_lower_arm_link"/>
    <origin rpy="0 0 0" xyz="0 0 0"/>
    <child link="l_hand_link"/>
  </joint>
  <link name="l_hand_link">
    <visual>
      <geometry>
        <!-- <mesh filename="file://[local-path]/ros2_ws/src/bioloid_description/assets/cad/FP04-F11_FCD-Conv_BDR-Col.dae" scale="0.001 0.001 0.001"/> -->
        <box size="0.1 0.1 0.1" />
      </geometry>
      <origin rpy="0 -1.5707963267948966 3.141592653589793" xyz="0.0415 0 0"/>
    </visual>
    <collision name="l_palm_collision">
      <origin xyz="0.039 0 0"/>
      <geometry>
        <box size="0.0131 0.0265 0.044"/>
      </geometry>
    </collision>
    <collision name="l_fingers_collision">
      <origin xyz="0.0701 -0.0077 0"/>
      <geometry>
        <box size="0.0575 0.0175 0.035"/>
      </geometry>
    </collision>
    <inertial>
      <mass value="0.0303003163"/>
      <origin xyz="-0.0070414665 0.0217364083 0.0000000095"/>
      <inertia ixx="0.0054448143" ixy="-0.0011266691" ixz="-0.0000000017" iyy="0.0013220979" iyz="-0.0000000025" izz="0.0053756998"/>
    </inertial>
    <!--
        <inertial>
            <origin xyz="0.045838 -0.013490 0.006666"/>
            <mass value="0.010"/>
            <inertia ixx="0.12202839"  ixy="-0.0020812626"  ixz="-0.00088143449" iyx="-0.0020812626" iyy="0.038088441" iyz="0.0018251448" izx="-0.00088143449" izy="0.0018251448" izz="0.11340830" />
        </inertial>
        -->
  </link>
  <joint name="r_hip_twist_joint" type="revolute">
    <parent link="torso_link"/>
    <origin rpy="0 3.141592653589793 1.5707963267948966" xyz="0 -0.0385 -0.0655"/>
    <axis xyz="0 0 1"/>
    <child link="r_hip_twist_link"/>
    <limit effort="10" lower="-0.5" upper="0.5" velocity="5.6548668"/>
  </joint>
  <link name="r_hip_twist_link">
    <visual>
      <geometry>
        <!-- <mesh filename="file://[local-path]/ros2_ws/src/bioloid_description/assets/cad/FP04-F5_FCD-Conv_BDR-Col.dae" scale="0.001 0.001 0.001"/> -->
        <box size="0.1 0.1 0.1" />
      </geometry>
      <origin rpy="3.141592653589793 0 3.141592653589793" xyz="0 0.02 0.05"/>
    </visual>
    <collision name="r_hip_twist_collision">
      <origin xyz="0.0008 0.02 0.041"/>
      <geometry>
        <box size="0.029 0.083 0.0405"/>
      </geometry>
    </collision>
    <inertial>
      <mass value="0.0755193623"/>
      <origin xyz="0.0005416307 -0.0000009200 0.0190685105"/>
      <inertia ixx="0.0082750315" ixy="-0.0000001051" ixz="0.0002681193" iyy="0.0194814984" iyz="-0.0000005502" izz="0.0133677616"/>
    </inertial>
    <!--
        <inertial>
            <origin xyz="0.000000 0.000480 0.018437" />
            <mass value="0.167"/>
            <inertia ixx="0.12259691"  ixy="0.00071127469"  ixz="0.00081143913" iyx="0.00071127469" iyy="0.11066637" iyz="-0.0071635476" izx="0.00081143913" izy="-0.0071635476" izz="0.041877668" />
        </inertial>
        -->
  </link>
  <joint name="l_hip_twist_joint" type="revolute">
    <parent link="torso_link"/>
    <origin rpy="0 3.141592653589793 -1.5707963267948966" xyz="0 0.0385 -0.0655"/>
    <axis xyz="0 0 1"/>
    <child link="l_hip_twist_link"/>
    <limit effort="10" lower="-0.5" upper="0.5" velocity="5.6548668"/>
  </joint>
  <link name="l_hip_twist_link">
    <visual>
      <geometry>
        <!-- <mesh filename="file://[local-path]/ros2_ws/src/bioloid_description/assets/cad/FP04-F5_FCD-Conv_BDR-Col.dae" scale="0.001 0.001 0.001"/> -->
        <box size="0.1 0.1 0.1" />
      </geometry>
      <origin rpy="3.141592653589793 0 0.0" xyz="0 -0.02 0.05"/>
    </visual>
    <collision name="r_hip_twist_collision">
      <origin xyz="0.0008 -0.02 0.041"/>
      <geometry>
        <box size="0.029 0.083 0.0405"/>
      </geometry>
    </collision>
    <inertial>
      <mass value="0.0755193623"/>
      <origin xyz="0.0005416307 -0.0000009200 0.0190685105"/>
      <inertia ixx="0.0082750315" ixy="-0.0000001051" ixz="0.0002681193" iyy="0.0194814984" iyz="-0.0000005502" izz="0.0133677616"/>
    </inertial>
    <!--
        <inertial>
            <origin xyz="0.000000 0.000480 0.018437" />
            <mass value="0.167"/>
            <inertia ixx="0.12259691"  ixy="0.00071127469"  ixz="0.00081143913" iyx="0.00071127469" iyy="0.11066637" iyz="-0.0071635476" izx="0.00081143913" izy="-0.0071635476" izz="0.041877668" />
        </inertial>
        -->
  </link>
  <joint name="r_hip_lateral_joint" type="revolute">
    <parent link="r_hip_twist_link"/>
    <origin rpy="-1.5707963267948966 0 0" xyz="0 0 0.05"/>
    <axis xyz="0 0 1"/>
    <child link="r_hip_lateral_link"/>
    <limit effort="10" lower="-0.8" upper="0.8" velocity="5.6548668"/>
  </joint>
  <link name="r_hip_lateral_link">
    <!-- Motor 9[r] 10[l] -->
    <visual>
      <geometry>
        <!-- <mesh filename="file://[local-path]/ros2_ws/src/bioloid_description/assets/cad/AX-12_FCD-Conv_BDR-Col.dae" scale="0.001 0.001 0.001"/> -->
        <box size="0.1 0.1 0.1" />
      </geometry>
      <origin rpy="0 0 -0.0" xyz="0 0 0.0353"/>
    </visual>
    <visual>
      <geometry>
        <!-- <mesh filename="file://[local-path]/ros2_ws/src/bioloid_description/assets/cad/FP04-F6_FCD-Conv_BDR-Col.dae" scale="0.001 0.001 0.001"/> -->
        <box size="0.1 0.1 0.1" />
      </geometry>
      <origin rpy="0 -1.5707963267948966 -1.5707963267948966" xyz="-0.019 -0.0145 0.0513"/>
    </visual>
    <visual>
      <geometry>
        <!-- <mesh filename="file://[local-path]/ros2_ws/src/bioloid_description/assets/cad/FP04-F6_FCD-Conv_BDR-Col.dae" scale="0.001 0.001 0.001"/> -->
        <box size="0.1 0.1 0.1" />
      </geometry>
      <origin rpy="0 -1.5707963267948966 1.5707963267948966" xyz="0.019 -0.0145 0.0513"/>
    </visual>
    <!-- Motor 11[r] 12[l] -->
    <visual>
      <geometry>
        <!-- <mesh filename="file://[local-path]/ros2_ws/src/bioloid_description/assets/cad/AX-12_FCD-Conv_BDR-Col.dae" scale="0.001 0.001 0.001"/> -->
        <box size="0.1 0.1 0.1" />
      </geometry>
      <origin rpy="-0.0 -1.5707963267948966 0" xyz="0 0 0.0032999999999999974"/>
    </visual>
    <visual>
      <geometry>
        <!-- <mesh filename="file://[local-path]/ros2_ws/src/bioloid_description/assets/cad/BPF-BU_FCD-Conv_BDR-Col.dae" scale="0.001 0.001 0.001"/> -->
        <box size="0.1 0.1 0.1" />
      </geometry>
      <origin rpy="-1.5707963267948966 -0.0 0" xyz="0 0 -0.014700000000000005"/>
    </visual>
    <visual>
      <geometry>
        <!-- <mesh filename="file://[local-path]/ros2_ws/src/bioloid_description/assets/cad/FP04-F7_FCD-Conv_BDR-Col.dae" scale="0.001 0.001 0.001"/> -->
        <box size="0.1 0.1 0.1" />
      </geometry>
      <origin rpy="1.5707963267948966 -0.0 1.5707963267948966" xyz="0 -0.0145 -0.0157"/>
    </visual>
    <collision name="r_hip_lateral_collision">
      <origin xyz="0 -0.0135 0.019999999999999997"/>
      <geometry>
        <box size="0.04 0.051 0.0721"/>
      </geometry>
    </collision>
    <inertial>
      <mass value="0.6852429363"/>
      <origin xyz="0.0167509278 -0.0033519500 0.0035241956"/>
      <inertia ixx="0.0160687475" ixy="-0.0135264586" ixz="0.0142999521" iyy="0.0903445586" iyz="-0.0025649497" izz="0.0920435080"/>
    </inertial>
    <!--
        <inertial>
            <origin xyz="0.000079 0.018242 0.013873" />
            <mass value="0.11904336"/>
            <inertia ixx="0.097950272"  ixy="0.0012119368"  ixz="-0.00021223016" iyx="0.00122119368" iyy="0.032848287" iyz="-0.0019474021" izx="-0.00021223016" izy="-0.0019474021" izz="0.11493509" />
        </inertial>
        -->
  </link>
  <joint name="l_hip_lateral_joint" type="revolute">
    <parent link="l_hip_twist_link"/>
    <origin rpy="1.5707963267948966 0 0" xyz="0 0 0.05"/>
    <axis xyz="0 0 1"/>
    <child link="l_hip_lateral_link"/>
    <limit effort="10" lower="-0.8" upper="0.8" velocity="5.6548668"/>
  </joint>
  <link name="l_hip_lateral_link">
    <!-- Motor 9[r] 10[l] -->
    <visual>
      <geometry>
        <!-- <mesh filename="file://[local-path]/ros2_ws/src/bioloid_description/assets/cad/AX-12_FCD-Conv_BDR-Col.dae" scale="0.001 0.001 0.001"/> -->
        <box size="0.1 0.1 0.1" />
      </geometry>
      <origin rpy="0 0 3.141592653589793" xyz="0 0 0.0353"/>
    </visual>
    <visual>
      <geometry>
        <!-- <mesh filename="file://[local-path]/ros2_ws/src/bioloid_description/assets/cad/FP04-F6_FCD-Conv_BDR-Col.dae" scale="0.001 0.001 0.001"/> -->
        <box size="0.1 0.1 0.1" />
      </geometry>
      <origin rpy="0 -1.5707963267948966 1.5707963267948966" xyz="0.019 0.0145 0.0513"/>
    </visual>
    <visual>
      <geometry>
        <!-- <mesh filename="file://[local-path]/ros2_ws/src/bioloid_description/assets/cad/FP04-F6_FCD-Conv_BDR-Col.dae" scale="0.001 0.001 0.001"/> -->
        <box size="0.1 0.1 0.1" />
      </geometry>
      <origin rpy="0 -1.5707963267948966 -1.5707963267948966" xyz="-0.019 0.0145 0.0513"/>
    </visual>
    <!-- Motor 11[r] 12[l] -->
    <visual>
      <geometry>
        <!-- <mesh filename="file://[local-path]/ros2_ws/src/bioloid_description/assets/cad/AX-12_FCD-Conv_BDR-Col.dae" scale="0.001 0.001 0.001"/> -->
        <box size="0.1 0.1 0.1" />
      </geometry>
      <origin rpy="3.141592653589793 1.5707963267948966 0" xyz="0 0 0.0032999999999999974"/>
    </visual>
    <visual>
      <geometry>
        <!-- <mesh filename="file://[local-path]/ros2_ws/src/bioloid_description/assets/cad/BPF-BU_FCD-Conv_BDR-Col.dae" scale="0.001 0.001 0.001"/> -->
        <box size="0.1 0.1 0.1" />
      </geometry>
      <origin rpy="1.5707963267948966 3.141592653589793 0" xyz="0 0 -0.014700000000000005"/>
    </visual>
    <visual>
      <geometry>
        <!-- <mesh filename="file://[local-path]/ros2_ws/src/bioloid_description/assets/cad/FP04-F7_FCD-Conv_BDR-Col.dae" scale="0.001 0.001 0.001"/> -->
        <box size="0.1 0.1 0.1" />
      </geometry>
      <origin rpy="-1.5707963267948966 3.141592653589793 1.5707963267948966" xyz="0 0.0145 -0.0157"/>
    </visual>
    <collision name="r_hip_lateral_collision">
      <origin xyz="0 0.0135 0.019999999999999997"/>
      <geometry>
        <box size="0.04 0.051 0.0721"/>
      </geometry>
    </collision>
    <inertial>
      <mass value="0.6852429363"/>
      <origin xyz="0.0183499039 0.0023512250 0.0035241953"/>
      <inertia ixx="0.0152904078" ixy="0.0125481783" ixz="0.0156374248" iyy="0.1050267499" iyz="0.0020800084" izz="0.1059474294"/>
    </inertial>
    <!--
        <inertial>
            <origin xyz="0.000079 0.018242 0.013873" />
            <mass value="0.11904336"/>
            <inertia ixx="0.097950272"  ixy="0.0012119368"  ixz="-0.00021223016" iyx="0.00122119368" iyy="0.032848287" iyz="-0.0019474021" izx="-0.00021223016" izy="-0.0019474021" izz="0.11493509" />
        </inertial>
        -->
  </link>
  <joint name="r_hip_swing_joint" type="revolute">
    <parent link="r_hip_lateral_link"/>
    <origin rpy="1.5707963267948966 0 -1.5707963267948966" xyz="0 0 0"/>
    <axis xyz="0 0 1"/>
    <child link="r_upper_leg_link"/>
    <limit effort="10" lower="-2.0" upper="0.3999999999999999" velocity="5.6548668"/>
  </joint>
  <link name="r_upper_leg_link">
    <visual>
      <geometry>
        <!-- <mesh filename="file://[local-path]/ros2_ws/src/bioloid_description/assets/cad/FP04-F4_FCD-Conv_BDR-Col.dae" scale="0.001 0.001 0.001"/> -->
        <box size="0.1 0.1 0.1" />
      </geometry>
      <origin rpy="-1.5707963267948966 -1.5707963267948966 -1.5707963267948966" xyz="0 0 0"/>
    </visual>
    <visual>
      <geometry>
        <!-- <mesh filename="file://[local-path]/ros2_ws/src/bioloid_description/assets/cad/FP04-F1_FCD-Conv_BDR-Col.dae" scale="0.001 0.001 0.001"/> -->
        <box size="0.1 0.1 0.1" />
      </geometry>
      <origin rpy="1.5707963267948966 1.5707963267948966 -1.5707963267948966" xyz="0.075 0.0145 0"/>
    </visual>
    <collision name="r_upper_leg_proximal_collision">
      <origin xyz="0.0214 0 0"/>
      <geometry>
        <box size="0.065 0.03 0.049"/>
      </geometry>
    </collision>
    <collision name="r_upper_leg_distal_collision">
      <origin xyz="0.0675 0.0065 0"/>
      <geometry>
        <box size="0.04 0.0371 0.049"/>
      </geometry>
    </collision>
    <inertial>
      <mass value="0.1557654222"/>
      <origin xyz="-0.0012110096 0.0000000568 -0.0444074895"/>
      <inertia ixx="0.0867975538" ixy="-0.0000000255" ixz="0.0030686267" iyy="0.0784005596" iyz="-0.0000000875" izz="0.0138679533"/>
    </inertial>
    <!--
        <inertial>
            <origin xyz="-0.062965 -0.000323 0.000692" />
            <mass value="0.11904336"/>
            <inertia ixx="0.097950272"  ixy="0.0012119368"  ixz="-0.00021223016" iyx="0.00122119368" iyy="0.032848287" iyz="-0.0019474021" izx="-0.00021223016" izy="-0.0019474021" izz="0.11493509" />
        </inertial>
        -->
  </link>
  <joint name="l_hip_swing_joint" type="revolute">
    <parent link="l_hip_lateral_link"/>
    <origin rpy="1.5707963267948966 0 -1.5707963267948966" xyz="0 0 0"/>
    <axis xyz="0 0 1"/>
    <child link="l_upper_leg_link"/>
    <limit effort="10" lower="-0.3999999999999999" upper="2.0" velocity="5.6548668"/>
  </joint>
  <link name="l_upper_leg_link">
    <visual>
      <geometry>
        <!-- <mesh filename="file://[local-path]/ros2_ws/src/bioloid_description/assets/cad/FP04-F4_FCD-Conv_BDR-Col.dae" scale="0.001 0.001 0.001"/> -->
        <box size="0.1 0.1 0.1" />
      </geometry>
      <origin rpy="1.5707963267948966 1.5707963267948966 -1.5707963267948966" xyz="0 0 0"/>
    </visual>
    <visual>
      <geometry>
        <!-- <mesh filename="file://[local-path]/ros2_ws/src/bioloid_description/assets/cad/FP04-F1_FCD-Conv_BDR-Col.dae" scale="0.001 0.001 0.001"/> -->
        <box size="0.1 0.1 0.1" />
      </geometry>
      <origin rpy="1.5707963267948966 -1.5707963267948966 1.5707963267948966" xyz="-0.075 0.0145 0"/>
    </visual>
    <collision name="r_upper_leg_proximal_collision">
      <origin xyz="-0.0214 0 0"/>
      <geometry>
        <box size="0.065 0.03 0.049"/>
      </geometry>
    </collision>
    <collision name="r_upper_leg_distal_collision">
      <origin xyz="-0.0675 0.0065 0"/>
      <geometry>
        <box size="0.04 0.0371 0.049"/>
      </geometry>
    </collision>
    <inertial>
      <mass value="0.1557654222"/>
      <origin xyz="-0.0012110096 0.0000000568 -0.0444074895"/>
      <inertia ixx="0.0867975538" ixy="-0.0000000255" ixz="0.0030686267" iyy="0.0784005596" iyz="-0.0000000875" izz="0.0138679533"/>
    </inertial>
    <!--
        <inertial>
            <origin xyz="-0.062965 -0.000323 0.000692" />
            <mass value="0.11904336"/>
            <inertia ixx="0.097950272"  ixy="0.0012119368"  ixz="-0.00021223016" iyx="0.00122119368" iyy="0.032848287" iyz="-0.0019474021" izx="-0.00021223016" izy="-0.0019474021" izz="0.11493509" />
        </inertial>
        -->
  </link>
  <joint name="r_knee_joint" type="revolute">
    <parent link="r_upper_leg_link"/>
    <origin rpy="0 0 0" xyz="0.075 0.0145 0"/>
    <axis xyz="0 0 1"/>
    <child link="r_lower_leg_link"/>
    <limit effort="10" lower="0" upper="2" velocity="5.6548668"/>
  </joint>
  <link name="r_lower_leg_link">
    <!-- Motor 13[r] 14[l] -->
    <visual>
      <geometry>
        <!-- <mesh filename="file://[local-path]/ros2_ws/src/bioloid_description/assets/cad/AX-12_FCD-Conv_BDR-Col.dae" scale="0.001 0.001 0.001"/> -->
        <box size="0.1 0.1 0.1" />
      </geometry>
      <origin rpy="0 0 0" xyz="0 0 0"/>
    </visual>
    <visual>
      <geometry>
        <!-- <mesh filename="file://[local-path]/ros2_ws/src/bioloid_description/assets/cad/FP04-F3_FCD-Conv_BDR-Col.dae" scale="0.001 0.001 0.001"/> -->
        <box size="0.1 0.1 0.1" />
      </geometry>
      <origin rpy="0 0 1.5707963267948966" xyz="0.019 -0.0145 0"/>
    </visual>
    <visual>
      <geometry>
        <!-- <mesh filename="file://[local-path]/ros2_ws/src/bioloid_description/assets/cad/FP04-F4_FCD-Conv_BDR-Col.dae" scale="0.001 0.001 0.001"/> -->
        <box size="0.1 0.1 0.1" />
      </geometry>
      <origin rpy="1.5707963267948966 1.5707963267948966 -1.5707963267948966" xyz="0.071 -0.0145 0"/>
    </visual>
    <collision name="r_lower_leg_proximal_collision">
      <origin xyz="0 -0.0135 0"/>
      <geometry>
        <box size="0.033 0.051 0.044"/>
      </geometry>
    </collision>
    <collision name="r_lower_leg_distal_collision">
      <origin xyz="0.0492 -0.0145 0"/>
      <geometry>
        <box size="0.067 0.03 0.049"/>
      </geometry>
    </collision>
    <inertial>
      <mass value="0.4326089335"/>
      <origin xyz="-0.0010052500 -0.0012675002 -0.0110864377"/>
      <inertia ixx="0.0542924849" ixy="0.0002115982" ixz="0.0010887655" iyy="0.0479327441" iyz="0.0019185952" izz="0.0137425373"/>
    </inertial>
    <!--
        <inertial>
            <origin xyz="-0.053955 0.006548 -0.000592" />
            <mass value="0.070309794"/>
            <inertia ixx="0.093369608"  ixy="-0.00093567395"  ixz="-0.00023992085" iyx="-0.00093567395" iyy="0.046295534" iyz="-0.012858493" izx="-0.00023992085" izy="-0.012858493" izz="0.11351516" />
        </inertial>
        -->
  </link>
  <joint name="l_knee_joint" type="revolute">
    <parent link="l_upper_leg_link"/>
    <origin rpy="0 0 0" xyz="-0.075 0.0145 0"/>
    <axis xyz="0 0 1"/>
    <child link="l_lower_leg_link"/>
    <limit effort="10" lower="-2" upper="0" velocity="5.6548668"/>
  </joint>
  <link name="l_lower_leg_link">
    <!-- Motor 13[r] 14[l] -->
    <visual>
      <geometry>
        <!-- <mesh filename="file://[local-path]/ros2_ws/src/bioloid_description/assets/cad/AX-12_FCD-Conv_BDR-Col.dae" scale="0.001 0.001 0.001"/> -->
        <box size="0.1 0.1 0.1" />
      </geometry>
      <origin rpy="0 0 0" xyz="0 0 0"/>
    </visual>
    <visual>
      <geometry>
        <!-- <mesh filename="file://[local-path]/ros2_ws/src/bioloid_description/assets/cad/FP04-F3_FCD-Conv_BDR-Col.dae" scale="0.001 0.001 0.001"/> -->
        <box size="0.1 0.1 0.1" />
      </geometry>
      <origin rpy="0 0 -1.5707963267948966" xyz="-0.019 -0.0145 0"/>
    </visual>
    <visual>
      <geometry>
        <!-- <mesh filename="file://[local-path]/ros2_ws/src/bioloid_description/assets/cad/FP04-F4_FCD-Conv_BDR-Col.dae" scale="0.001 0.001 0.001"/> -->
        <box size="0.1 0.1 0.1" />
      </geometry>
      <origin rpy="-1.5707963267948966 -1.5707963267948966 -1.5707963267948966" xyz="-0.071 -0.0145 0"/>
    </visual>
    <collision name="r_lower_leg_proximal_collision">
      <origin xyz="0 -0.0135 0"/>
      <geometry>
        <box size="0.033 0.051 0.044"/>
      </geometry>
    </collision>
    <collision name="r_lower_leg_distal_collision">
      <origin xyz="-0.0492 -0.0145 0"/>
      <geometry>
        <box size="0.067 0.03 0.049"/>
      </geometry>
    </collision>
    <inertial>
      <mass value="0.4326089335"/>
      <origin xyz="-0.0010052500 0.0002674591 -0.0110862203"/>
      <inertia ixx="0.0541596500" ixy="-0.0001245680" ixz="0.0010887872" iyy="0.0479327482" iyz="-0.0009590411" izz="0.0136097320"/>
    </inertial>
    <!--
        <inertial>
            <origin xyz="-0.053955 0.006548 -0.000592" />
            <mass value="0.070309794"/>
            <inertia ixx="0.093369608"  ixy="-0.00093567395"  ixz="-0.00023992085" iyx="-0.00093567395" iyy="0.046295534" iyz="-0.012858493" izx="-0.00023992085" izy="-0.012858493" izz="0.11351516" />
        </inertial>
        -->
  </link>
  <joint name="r_ankle_swing_joint" type="revolute">
    <parent link="r_lower_leg_link"/>
    <origin rpy="3.141592653589793 0 0" xyz="0.071 -0.0145 0"/>
    <axis xyz="0 0 1"/>
    <child link="r_ankle_swing_link"/>
    <limit effort="10" lower="-0.3999999999999999" upper="2.0" velocity="5.6548668"/>
  </joint>
  <link name="r_ankle_swing_link">
    <!-- Motor 15[r] 16[l] -->
    <visual>
      <geometry>
        <!-- <mesh filename="file://[local-path]/ros2_ws/src/bioloid_description/assets/cad/AX-12_FCD-Conv_BDR-Col.dae" scale="0.001 0.001 0.001"/> -->
        <box size="0.1 0.1 0.1" />
      </geometry>
      <origin rpy=" -0.0  3.141592653589793 -1.5707963267948966" xyz="0 0 0"/>
    </visual>
    <visual>
      <geometry>
        <!-- <mesh filename="file://[local-path]/ros2_ws/src/bioloid_description/assets/cad/FP04-F7_FCD-Conv_BDR-Col.dae" scale="0.001 0.001 0.001"/> -->
        <box size="0.1 0.1 0.1" />
      </geometry>
      <origin rpy="3.141592653589793 -0.0 0" xyz="-0.0145 0.019 0"/>
    </visual>
    <!-- Motor 17[r] 18[l] -->
    <visual>
      <geometry>
        <!-- <mesh filename="file://[local-path]/ros2_ws/src/bioloid_description/assets/cad/AX-12_FCD-Conv_BDR-Col.dae" scale="0.001 0.001 0.001"/> -->
        <box size="0.1 0.1 0.1" />
      </geometry>
      <origin rpy="0 1.5707963267948966 -1.5707963267948966" xyz="0 -0.032 0"/>
    </visual>
    <visual>
      <geometry>
        <!-- <mesh filename="file://[local-path]/ros2_ws/src/bioloid_description/assets/cad/FP04-F6_FCD-Conv_BDR-Col.dae" scale="0.001 0.001 0.001"/> -->
        <box size="0.1 0.1 0.1" />
      </geometry>
      <origin rpy="-1.5707963267948966 0 -1.5707963267948966" xyz="-0.0145 -0.048 0.019"/>
    </visual>
    <visual>
      <geometry>
        <!-- <mesh filename="file://[local-path]/ros2_ws/src/bioloid_description/assets/cad/FP04-F6_FCD-Conv_BDR-Col.dae" scale="0.001 0.001 0.001"/> -->
        <box size="0.1 0.1 0.1" />
      </geometry>
      <origin rpy="1.5707963267948966 0 -1.5707963267948966" xyz="-0.0145 -0.048 -0.019"/>
    </visual>
    <collision name="r_ankle_swing_collision">
      <origin xyz="-0.0135 -0.0167 0"/>
      <geometry>
        <box size="0.051 0.0721 0.04"/>
      </geometry>
    </collision>
    <inertial>
      <mass value="0.6852429363"/>
      <origin xyz="0.0183499039 -0.0023512250 -0.0035241953"/>
      <inertia ixx="0.0152904078" ixy="-0.0125481783" ixz="-0.0156374248" iyy="0.1050267499" iyz="0.0020800084" izz="0.1059474294"/>
    </inertial>
    <!--
        <inertial>
            <origin xyz="-0.000214 -0.018536 0.013873" />
            <mass value="0.16710792"/>
            <inertia ixx="0.12079175"  ixy="-0.00079781067"  ixz="-0.00039322246" iyx="-0.00079781067" iyy="0.10885465" iyz="0.0070770117" izx="-0.00039322246" izy="0.0070770117" izz="0.041871103" />
        </inertial>
        -->
  </link>
  <joint name="l_ankle_swing_joint" type="revolute">
    <parent link="l_lower_leg_link"/>
    <origin rpy="3.141592653589793 0 0" xyz="-0.071 -0.0145 0"/>
    <axis xyz="0 0 1"/>
    <child link="l_ankle_swing_link"/>
    <limit effort="10" lower="-2.0" upper="0.3999999999999999" velocity="5.6548668"/>
  </joint>
  <link name="l_ankle_swing_link">
    <!-- Motor 15[r] 16[l] -->
    <visual>
      <geometry>
        <!-- <mesh filename="file://[local-path]/ros2_ws/src/bioloid_description/assets/cad/AX-12_FCD-Conv_BDR-Col.dae" scale="0.001 0.001 0.001"/> -->
        <box size="0.1 0.1 0.1" />
      </geometry>
      <origin rpy=" 3.141592653589793  0.0 -1.5707963267948966" xyz="0 0 0"/>
    </visual>
    <visual>
      <geometry>
        <!-- <mesh filename="file://[local-path]/ros2_ws/src/bioloid_description/assets/cad/FP04-F7_FCD-Conv_BDR-Col.dae" scale="0.001 0.001 0.001"/> -->
        <box size="0.1 0.1 0.1" />
      </geometry>
      <origin rpy="3.141592653589793 3.141592653589793 0" xyz="0.0145 0.019 0"/>
    </visual>
    <!-- Motor 17[r] 18[l] -->
    <visual>
      <geometry>
        <!-- <mesh filename="file://[local-path]/ros2_ws/src/bioloid_description/assets/cad/AX-12_FCD-Conv_BDR-Col.dae" scale="0.001 0.001 0.001"/> -->
        <box size="0.1 0.1 0.1" />
      </geometry>
      <origin rpy="0 -1.5707963267948966 1.5707963267948966" xyz="0 -0.032 0"/>
    </visual>
    <visual>
      <geometry>
        <!-- <mesh filename="file://[local-path]/ros2_ws/src/bioloid_description/assets/cad/FP04-F6_FCD-Conv_BDR-Col.dae" scale="0.001 0.001 0.001"/> -->
        <box size="0.1 0.1 0.1" />
      </geometry>
      <origin rpy="1.5707963267948966 0 -1.5707963267948966" xyz="0.0145 -0.048 -0.019"/>
    </visual>
    <visual>
      <geometry>
        <!-- <mesh filename="file://[local-path]/ros2_ws/src/bioloid_description/assets/cad/FP04-F6_FCD-Conv_BDR-Col.dae" scale="0.001 0.001 0.001"/> -->
        <box size="0.1 0.1 0.1" />
      </geometry>
      <origin rpy="-1.5707963267948966 0 -1.5707963267948966" xyz="0.0145 -0.048 0.019"/>
    </visual>
    <collision name="r_ankle_swing_collision">
      <origin xyz="0.0135 -0.0167 0"/>
      <geometry>
        <box size="0.051 0.0721 0.04"/>
      </geometry>
    </collision>
    <inertial>
      <mass value="0.6852429363"/>
      <origin xyz="0.0167509278 0.0033519500 -0.0035241956"/>
      <inertia ixx="0.0160687475" ixy="0.0135264586" ixz="-0.0142999521" iyy="0.0903445586" iyz="-0.0025649497" izz="0.0920435080"/>
    </inertial>
    <!--
        <inertial>
            <origin xyz="-0.000214 -0.018536 0.013873" />
            <mass value="0.16710792"/>
            <inertia ixx="0.12079175"  ixy="-0.00079781067"  ixz="-0.00039322246" iyx="-0.00079781067" iyy="0.10885465" iyz="0.0070770117" izx="-0.00039322246" izy="0.0070770117" izz="0.041871103" />
        </inertial>
        -->
  </link>
  <joint name="r_ankle_lateral_joint" type="revolute">
    <parent link="r_ankle_swing_link"/>
    <origin rpy="-1.5707963267948966 0 0" xyz="0 0 0"/>
    <axis xyz="0 0 1"/>
    <child link="r_ankle_lateral_link"/>
    <limit effort="10" lower="-0.8" upper="0.8" velocity="5.6548668"/>
  </joint>
  <link name="r_ankle_lateral_link">
    <visual>
      <geometry>
        <!-- <mesh filename="file://[local-path]/ros2_ws/src/bioloid_description/assets/cad/BPF-BU_FCD-Conv_BDR-Col.dae" scale="0.001 0.001 0.001"/> -->
        <box size="0.1 0.1 0.1" />
      </geometry>
      <origin rpy="1.5707963267948966 0 0" xyz="0 0 0.015"/>
    </visual>
    <visual>
      <geometry>
        <!-- <mesh filename="file://[local-path]/ros2_ws/src/bioloid_description/assets/cad/FP04-F5_FCD-Conv_BDR-Col.dae" scale="0.001 0.001 0.001"/> -->
        <box size="0.1 0.1 0.1" />
      </geometry>
      <origin rpy="-1.5707963267948966 -0.0  -1.5707963267948966" xyz="0 0 -0.0155"/>
    </visual>
    <collision name="r_ankle_lateral_collision">
      <origin xyz="0.009 0 -0.016"/>
      <geometry>
        <box size="0.0405 0.029 0.083"/>
      </geometry>
    </collision>
    <inertial>
      <mass value="0.1867801099"/>
      <origin xyz="-0.0055676472 0.0034398816 0.0028465215"/>
      <inertia ixx="0.0123442309" ixy="-0.0013373380" ixz="-0.0014042040" iyy="0.0351609327" iyz="0.0011525105" izz="0.0411013075"/>
    </inertial>
    <!--
        <inertial>
            <origin xyz="-0.025995 -0.009506 -0.000503" />
            <mass value="0.0794462"/>
            <inertia ixx="0.12079175"  ixy="-0.00079781067"  ixz="-0.00039322246" iyx="-0.00079781067" iyy="0.10885465" iyz="0.0070770117" izx="-0.00039322246" izy="0.0070770117" izz="0.041871103" />
        </inertial>
        -->
  </link>
  <joint name="l_ankle_lateral_joint" type="revolute">
    <parent link="l_ankle_swing_link"/>
    <origin rpy="-1.5707963267948966 0 0" xyz="0 0 0"/>
    <axis xyz="0 0 1"/>
    <child link="l_ankle_lateral_link"/>
    <limit effort="10" lower="-0.8" upper="0.8" velocity="5.6548668"/>
  </joint>
  <link name="l_ankle_lateral_link">
    <visual>
      <geometry>
        <!-- <mesh filename="file://[local-path]/ros2_ws/src/bioloid_description/assets/cad/BPF-BU_FCD-Conv_BDR-Col.dae" scale="0.001 0.001 0.001"/> -->
        <box size="0.1 0.1 0.1" />
      </geometry>
      <origin rpy="1.5707963267948966 0 0" xyz="0 0 0.015"/>
    </visual>
    <visual>
      <geometry>
        <!-- <mesh filename="file://[local-path]/ros2_ws/src/bioloid_description/assets/cad/FP04-F5_FCD-Conv_BDR-Col.dae" scale="0.001 0.001 0.001"/> -->
        <box size="0.1 0.1 0.1" />
      </geometry>
      <origin rpy="1.5707963267948966 3.141592653589793  -1.5707963267948966" xyz="0 0 -0.0155"/>
    </visual>
    <collision name="r_ankle_lateral_collision">
      <origin xyz="-0.009 0 -0.016"/>
      <geometry>
        <box size="0.0405 0.029 0.083"/>
      </geometry>
    </collision>
    <inertial>
      <mass value="0.1867801099"/>
      <origin xyz="-0.0055676472 -0.0035014440 0.0028465215"/>
      <inertia ixx="0.0123437897" ixy="0.0013329200" ixz="-0.0014042040" iyy="0.0351609292" iyz="-0.0011492661" izz="0.0411008628"/>
    </inertial>
    <!--
        <inertial>
            <origin xyz="-0.025995 -0.009506 -0.000503" />
            <mass value="0.0794462"/>
            <inertia ixx="0.12079175"  ixy="-0.00079781067"  ixz="-0.00039322246" iyx="-0.00079781067" iyy="0.10885465" iyz="0.0070770117" izx="-0.00039322246" izy="0.0070770117" izz="0.041871103" />
        </inertial>
        -->
  </link>
  <joint name="r_foot_joint" type="fixed">
    <parent link="r_ankle_lateral_link"/>
    <origin rpy="0 0 0" xyz="0 0 0"/>
    <child link="r_foot_link"/>
  </joint>
  <!--gazebo reference="r_foot_link">
    <mu1>9000</mu1>
    <mu2>9000</mu2>
    <kp>1000000.0</kp>
    <kd>10.0</kd>
    <minDepth>0.001</minDepth>
    <maxContacts>1</maxContacts>
  </gazebo-->
  <joint name="l_foot_joint" type="fixed">
    <parent link="l_ankle_lateral_link"/>
    <origin rpy="0 0 0" xyz="0 0 0"/>
    <child link="l_foot_link"/>
  </joint>
  <!--gazebo reference="l_foot_link">
    <mu1>9000</mu1>
    <mu2>9000</mu2>
    <kp>1000000.0</kp>
    <kd>10.0</kd>
    <minDepth>0.001</minDepth>
    <maxContacts>1</maxContacts>
  </gazebo-->
  <!-- Add this for new head -->
  <!--link name="head_link">
    <visual>
        <geometry>
            <box size="0.1 0.1 0.1" />
        </geometry>
        <origin xyz="0 0 0" rpy="0 0 0" />
    </visual>
    <collision name="head_collision">
        <origin xyz="0 0 0" rpy="0 0 0" />
        <geometry>
            <box size="0.05 0.05 0.05" />
        </geometry>
    </collision>
    <inertial>
        <mass value="0.1"/>
        <origin xyz="0 0 0" />
        <inertia ixx="0.001" ixy="0" ixz="0" iyy="0.001" iyz="0" izz="0.001"/>
    </inertial>
  </link-->

  <!-- Add this under your existing joints -->
  <!--joint name="head_joint" type="fixed">
    <parent link="torso_link" />
    <child link="head_link" />
    <origin xyz="0 0 0" rpy="0 0 0" />
    <axis xyz="0 0 1" />
    <limit effort="1.5" lower="-1.0" upper="1.0" velocity="1.0" />
  </joint-->
  
  <!--gazebo reference="head_link"-->
    <!--<material>Gazebo/Red</material>--> 
    <!-- Alternative: Custom color specification -->
    <!--
    <visual>
      <material>
        <ambient>1.0 0.0 0.0 1.0</ambient>
        <diffuse>1.0 0.0 0.0 1.0</diffuse>
        <specular>0.1 0.1 0.1 1.0</specular>
        <emissive>0.0 0.0 0.0 0.0</emissive>
      </material>
    </visual>
    -->
  <!--/gazebo-->
  
 
  <!-- Right Arm -->
  <gazebo>
    <plugin filename="gz-sim-joint-position-controller-system" 
          name="gz::sim::systems::JointPositionController">
      <joint_name>r_shoulder_swing_joint</joint_name>
      <topic>/r_shoulder_swing_joint/cmd_pos</topic>
      <p_gain>100</p_gain>
      <i_gain>0.1</i_gain>
      <d_gain>1.0</d_gain>
    </plugin>
  </gazebo>

  <gazebo>
    <plugin filename="gz-sim-joint-position-controller-system" 
          name="gz::sim::systems::JointPositionController">
      <joint_name>r_shoulder_lateral_joint</joint_name>
      <topic>/r_shoulder_lateral_joint/cmd_pos</topic>
      <p_gain>1000</p_gain>
      <i_gain>0.1</i_gain>
      <d_gain>10.0</d_gain>
    </plugin>
  </gazebo>

  <gazebo>
    <plugin filename="gz-sim-joint-position-controller-system" 
          name="gz::sim::systems::JointPositionController">
      <joint_name>r_elbow_joint</joint_name>
      <topic>/r_elbow_joint/cmd_pos</topic>
      <p_gain>100</p_gain>
      <i_gain>0.1</i_gain>
      <d_gain>1.0</d_gain>
    </plugin>
  </gazebo>

  <!-- Left Arm -->
  <gazebo>
    <plugin filename="gz-sim-joint-position-controller-system" 
          name="gz::sim::systems::JointPositionController">
      <joint_name>l_shoulder_swing_joint</joint_name>
      <topic>/l_shoulder_swing_joint/cmd_pos</topic>
      <p_gain>100</p_gain>
      <i_gain>0.1</i_gain>
      <d_gain>1.0</d_gain>
    </plugin>
  </gazebo>

  <gazebo>
    <plugin filename="gz-sim-joint-position-controller-system" 
          name="gz::sim::systems::JointPositionController">
      <joint_name>l_shoulder_lateral_joint</joint_name>
      <topic>/l_shoulder_lateral_joint/cmd_pos</topic>
      <p_gain>100</p_gain>
      <i_gain>0.1</i_gain>
      <d_gain>1.0</d_gain>
    </plugin>
  </gazebo>

  <gazebo>
    <plugin filename="gz-sim-joint-position-controller-system" 
          name="gz::sim::systems::JointPositionController">
      <joint_name>l_elbow_joint</joint_name>
      <topic>/l_elbow_joint/cmd_pos</topic>
      <p_gain>100</p_gain>
      <i_gain>0.1</i_gain>
      <d_gain>1.0</d_gain>
    </plugin>
  </gazebo>

  <!-- Right Leg -->
    <gazebo>
    <plugin filename="gz-sim-joint-position-controller-system" 
          name="gz::sim::systems::JointPositionController">
      <joint_name>r_hip_twist_joint</joint_name>
      <topic>/r_hip_twist_joint/cmd_pos</topic>
      <p_gain>100</p_gain>
      <i_gain>0.1</i_gain>
      <d_gain>1.0</d_gain>
    </plugin>
  </gazebo>

  <gazebo>
    <plugin filename="gz-sim-joint-position-controller-system" 
          name="gz::sim::systems::JointPositionController">
      <joint_name>r_hip_lateral_joint</joint_name>
      <topic>/r_hip_lateral_joint/cmd_pos</topic>
      <p_gain>100</p_gain>
      <i_gain>0.1</i_gain>
      <d_gain>1.0</d_gain>
    </plugin>
  </gazebo>

  <gazebo>
    <plugin filename="gz-sim-joint-position-controller-system" 
          name="gz::sim::systems::JointPositionController">
      <joint_name>r_hip_swing_joint</joint_name>
      <topic>/r_hip_swing_joint/cmd_pos</topic>
      <p_gain>100</p_gain>
      <i_gain>0.1</i_gain>
      <d_gain>1.0</d_gain>
    </plugin>
  </gazebo>
  <gazebo>
    <plugin filename="gz-sim-joint-position-controller-system" 
          name="gz::sim::systems::JointPositionController">
      <joint_name>r_knee_joint</joint_name>
      <topic>/r_knee_joint/cmd_pos</topic>
      <p_gain>100</p_gain>
      <i_gain>0.1</i_gain>
      <d_gain>1.0</d_gain>
    </plugin>
  </gazebo>

  <gazebo>
    <plugin filename="gz-sim-joint-position-controller-system" 
          name="gz::sim::systems::JointPositionController">
      <joint_name>r_ankle_swing_joint</joint_name>
      <topic>/r_ankle_swing_joint/cmd_pos</topic>
      <p_gain>100</p_gain>
      <i_gain>0.1</i_gain>
      <d_gain>1.0</d_gain>
    </plugin>
  </gazebo>

  <gazebo>
    <plugin filename="gz-sim-joint-position-controller-system" 
          name="gz::sim::systems::JointPositionController">
      <joint_name>r_ankle_lateral_joint</joint_name>
      <topic>/r_ankle_lateral_joint/cmd_pos</topic>
      <p_gain>100</p_gain>
      <i_gain>0.1</i_gain>
      <d_gain>1.0</d_gain>
    </plugin>
  </gazebo>

  <!-- Left Leg -->

    <gazebo>
    <plugin filename="gz-sim-joint-position-controller-system" 
          name="gz::sim::systems::JointPositionController">
      <joint_name>l_hip_twist_joint</joint_name>
      <topic>/l_hip_twist_joint/cmd_pos</topic>
      <p_gain>100</p_gain>
      <i_gain>0.1</i_gain>
      <d_gain>1.0</d_gain>
    </plugin>
  </gazebo>

  <gazebo>
    <plugin filename="gz-sim-joint-position-controller-system" 
          name="gz::sim::systems::JointPositionController">
      <joint_name>l_hip_lateral_joint</joint_name>
      <topic>/l_hip_lateral_joint/cmd_pos</topic>
      <p_gain>100</p_gain>
      <i_gain>0.1</i_gain>
      <d_gain>1.0</d_gain>
    </plugin>
  </gazebo>

  <gazebo>
    <plugin filename="gz-sim-joint-position-controller-system" 
          name="gz::sim::systems::JointPositionController">
      <joint_name>l_hip_swing_joint</joint_name>
      <topic>/l_hip_swing_joint/cmd_pos</topic>
      <p_gain>100</p_gain>
      <i_gain>0.1</i_gain>
      <d_gain>1.0</d_gain>
    </plugin>
  </gazebo>
  <gazebo>
    <plugin filename="gz-sim-joint-position-controller-system" 
          name="gz::sim::systems::JointPositionController">
      <joint_name>l_knee_joint</joint_name>
      <topic>/l_knee_joint/cmd_pos</topic>
      <p_gain>100</p_gain>
      <i_gain>0.1</i_gain>
      <d_gain>1.0</d_gain>
    </plugin>
  </gazebo>

  <gazebo>
    <plugin filename="gz-sim-joint-position-controller-system" 
          name="gz::sim::systems::JointPositionController">
      <joint_name>l_ankle_swing_joint</joint_name>
      <topic>/l_ankle_swing_joint/cmd_pos</topic>
      <p_gain>100</p_gain>
      <i_gain>0.1</i_gain>
      <d_gain>1.0</d_gain>
    </plugin>
  </gazebo>

  <gazebo>
    <plugin filename="gz-sim-joint-position-controller-system" 
          name="gz::sim::systems::JointPositionController">
      <joint_name>l_ankle_lateral_joint</joint_name>
      <topic>/l_ankle_lateral_joint/cmd_pos</topic>
      <p_gain>100</p_gain>
      <i_gain>0.1</i_gain>
      <d_gain>1.0</d_gain>
    </plugin>
  </gazebo>

</robot>
